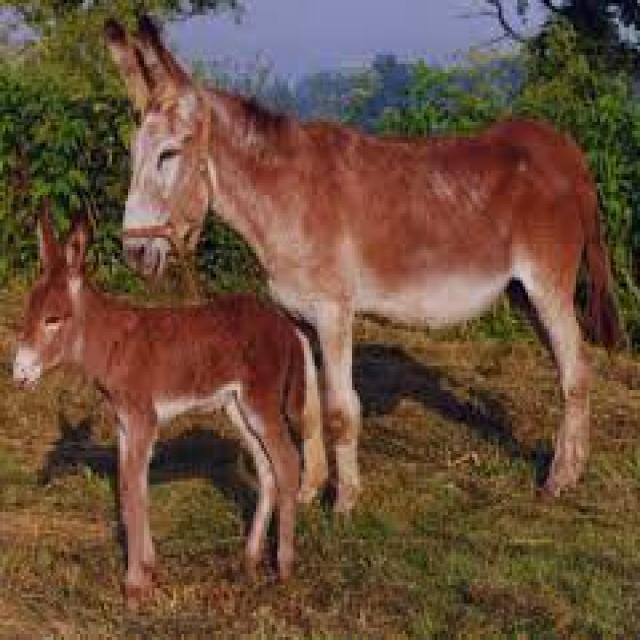donkey: (107, 15, 619, 509), (16, 216, 328, 588)
